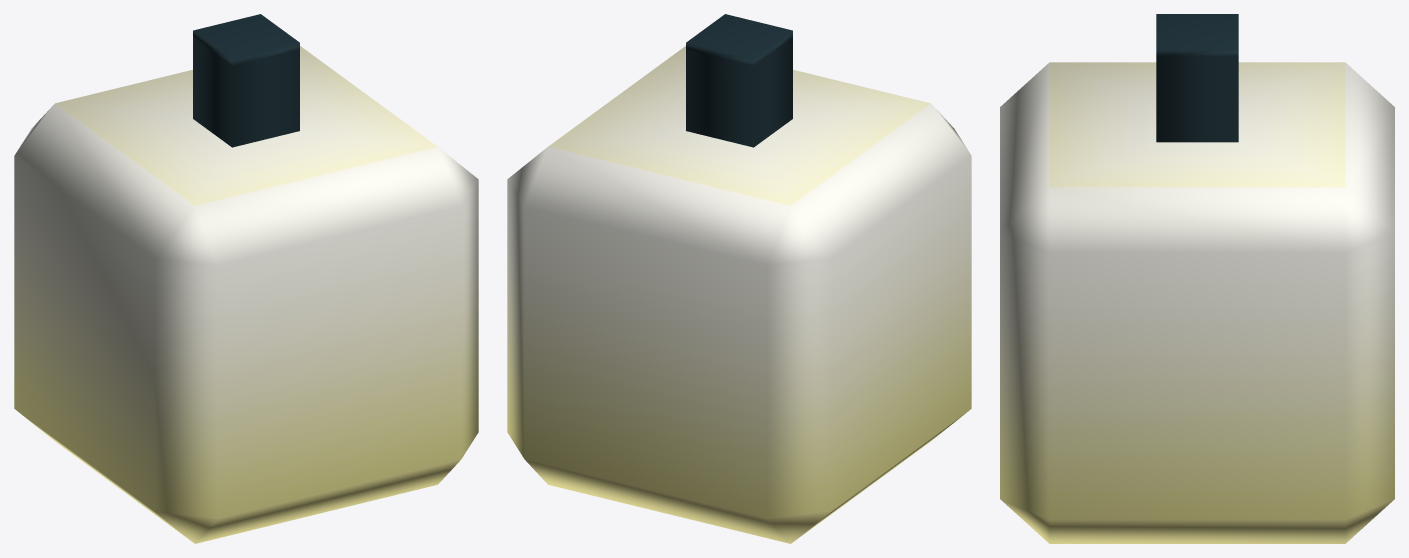
The model's file is candle_big_2.fbx.
The picture shows the model from 3 angles, left to right: view 1: azimuth 30°, elevation 25°; view 2: azimuth 150°, elevation 25°; view 3: azimuth 270°, elevation 25°; orthographic projection. The views are drawn at different scales.
Parts seen in each view (by area): view 1: candle_big_2; view 2: candle_big_2; view 3: candle_big_2.
Boxes of the visible parts, left/top/right/bottom form: candle_big_2: left=14, top=14, right=478, bottom=543; candle_big_2: left=507, top=14, right=971, bottom=543; candle_big_2: left=1000, top=14, right=1394, bottom=543.
Bounding box in the file's own units: 39.91 × 50.21 × 39.91.
Materials: 1 (1 with a texture image).
